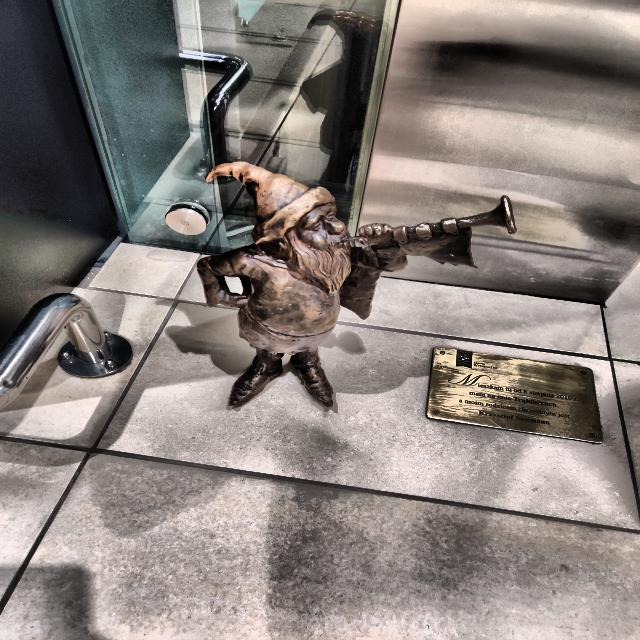Trabibrzuch: (197, 161, 515, 408)
